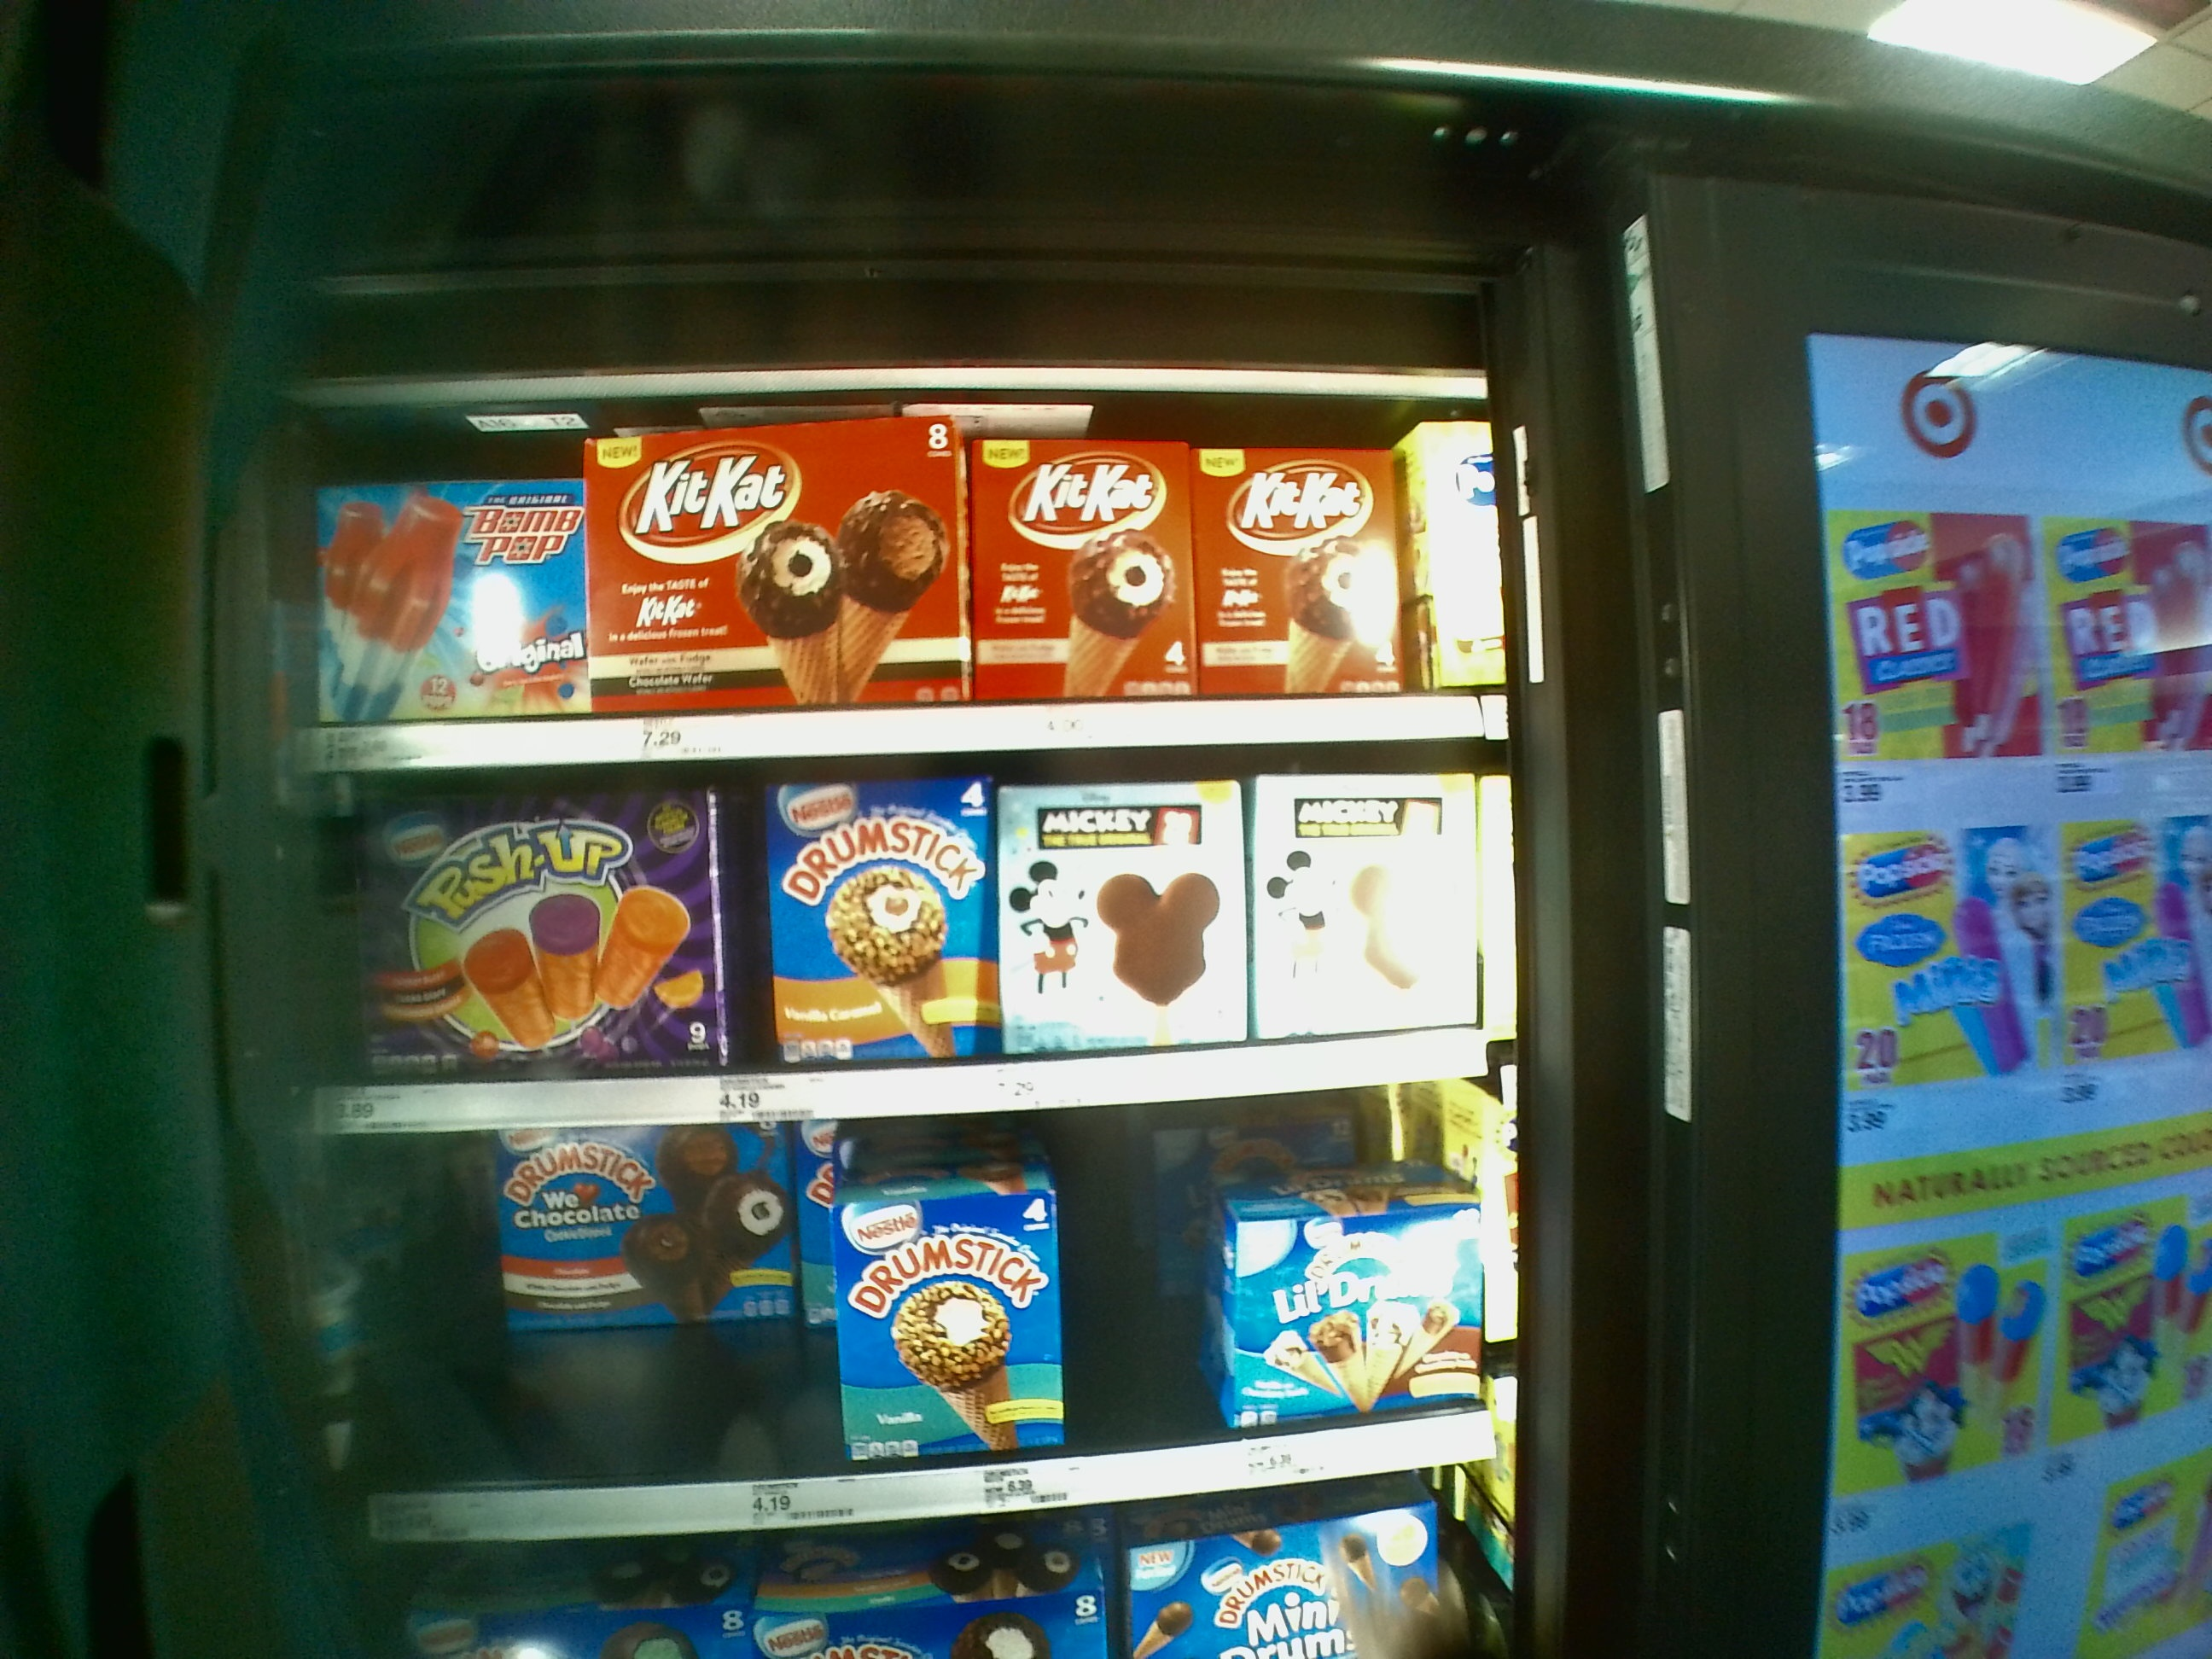shelf: (341, 1140, 1521, 1523), (286, 399, 1487, 762), (303, 767, 1493, 1126)
